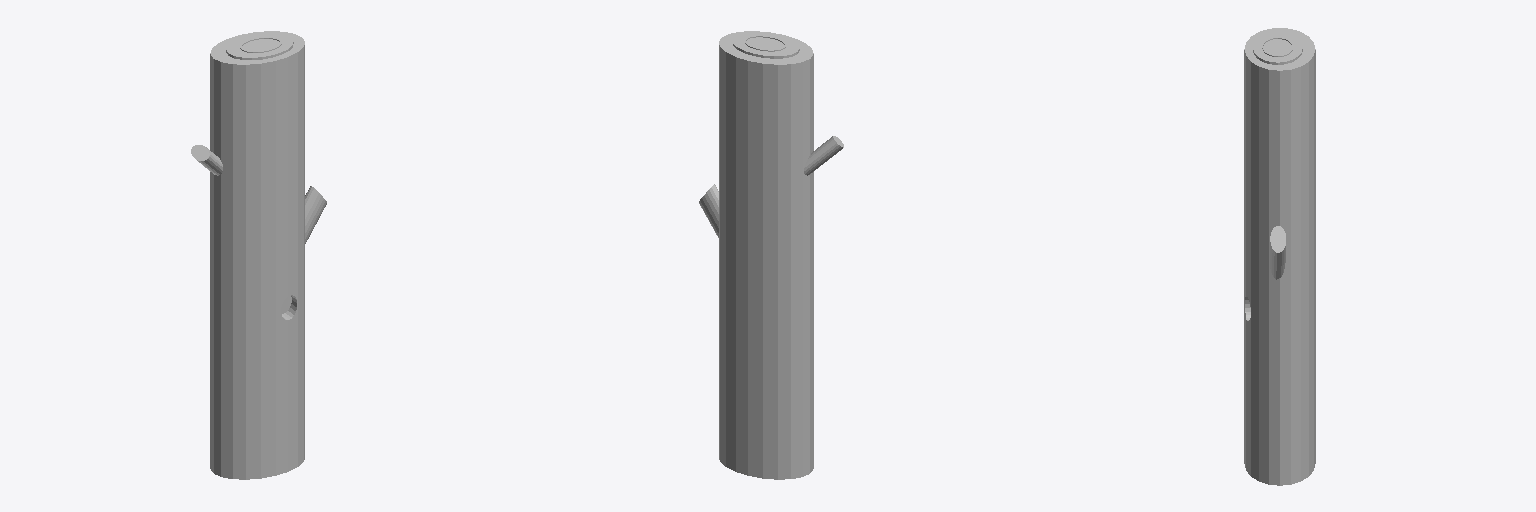
Rendered from tinker.obj.
3 views of the same model, side by side, from view 1: azimuth 30°, elevation 25°; view 2: azimuth 150°, elevation 25°; view 3: azimuth 270°, elevation 25° (orthographic).
Parts seen in each view (by area): view 1: obj_0; view 2: obj_0; view 3: obj_0.
Part boxes in pixels (left/top/right/bottom): obj_0: left=191, top=31, right=326, bottom=479; obj_0: left=699, top=31, right=843, bottom=479; obj_0: left=1244, top=28, right=1315, bottom=485.
Bounding box in the file's own units: 36 × 105 × 16.